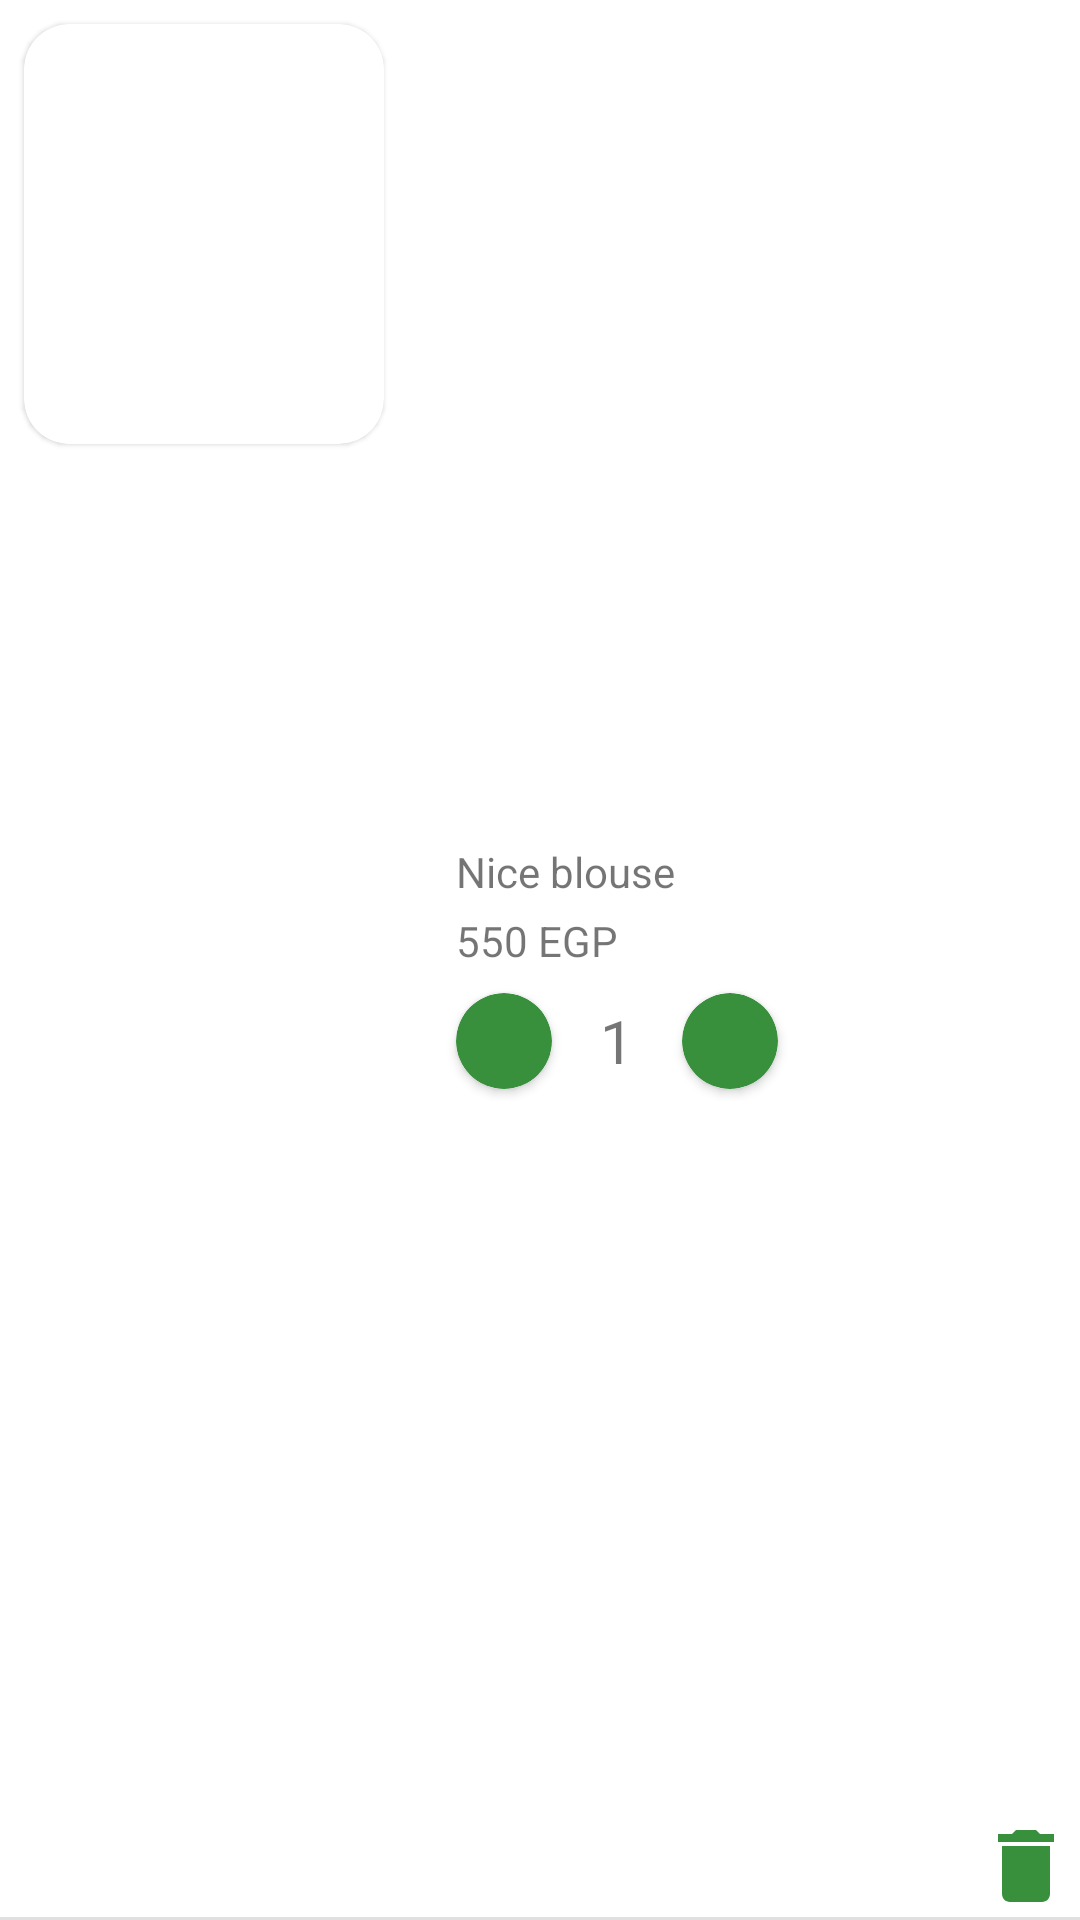

Where icons sit on this 1080 × 1920 app screen, as rect(x1, y1, x2, y2):
delete: rect(998, 1830, 1054, 1902)
